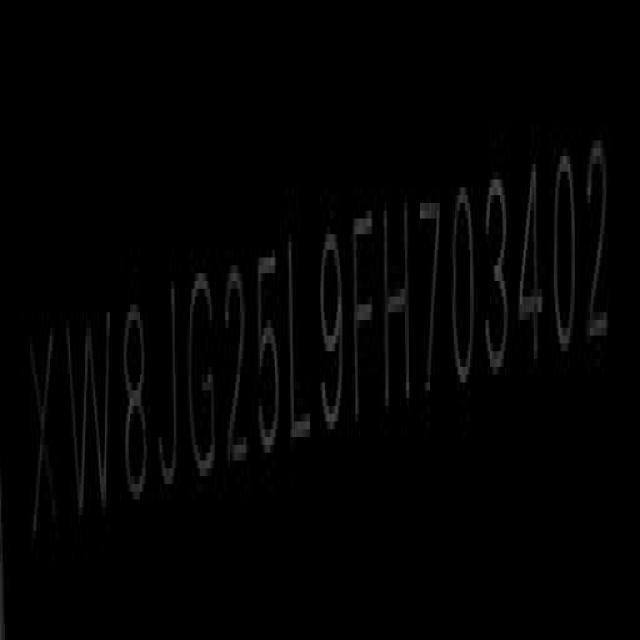0: (553, 148, 579, 358), (452, 180, 477, 393)
2: (225, 255, 251, 477), (586, 134, 612, 348)
3: (486, 173, 510, 390)
4: (519, 154, 546, 377)
5: (256, 240, 282, 467)
7: (418, 185, 442, 405)
8: (123, 296, 150, 515)
9: (320, 220, 346, 444)
F: (352, 205, 374, 419)
G: (190, 263, 220, 490)
H: (381, 197, 414, 422)
J: (158, 281, 183, 502)
L: (287, 230, 314, 456)
W: (65, 300, 115, 532)
X: (26, 319, 58, 557)
